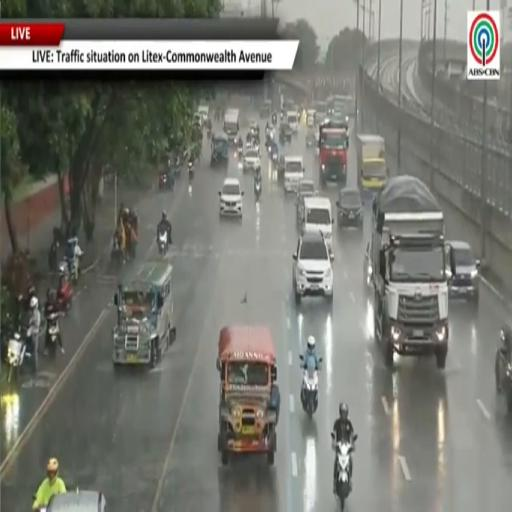car: (293, 232, 333, 303), (447, 240, 480, 305), (495, 326, 511, 413), (46, 491, 107, 511), (336, 187, 363, 228), (219, 178, 244, 218), (295, 179, 316, 223), (283, 155, 304, 194), (363, 242, 372, 292), (243, 149, 260, 171), (279, 122, 291, 143), (306, 127, 316, 148), (278, 155, 286, 181)
jeepney: (217, 326, 279, 465), (113, 261, 175, 367)
motorcycle: (331, 434, 357, 510), (8, 328, 33, 383), (301, 368, 318, 418), (57, 263, 73, 312), (46, 312, 61, 357), (111, 234, 124, 266), (48, 240, 59, 273), (66, 258, 79, 283), (158, 231, 168, 257), (254, 180, 261, 200), (188, 162, 194, 181), (271, 152, 278, 166), (237, 146, 243, 159), (272, 113, 277, 127), (207, 127, 212, 138)
truck: (369, 175, 454, 369), (357, 135, 388, 199), (319, 120, 348, 186), (224, 109, 239, 145)
